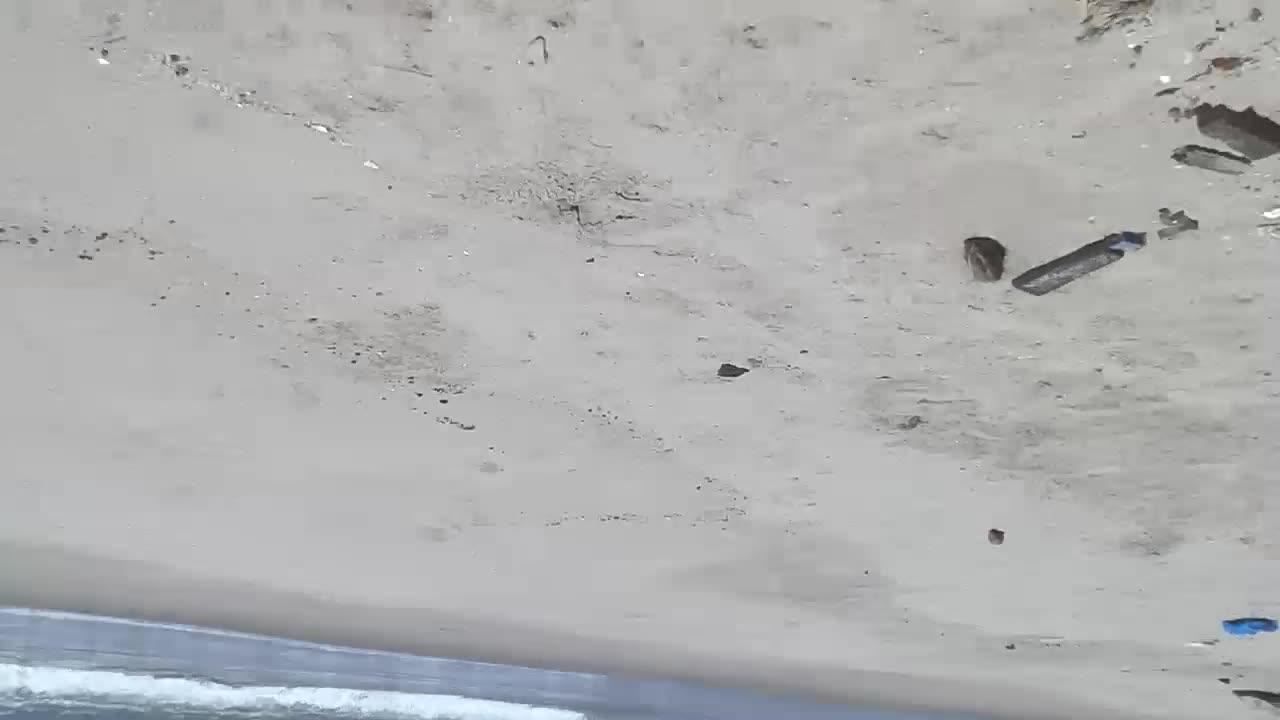obj: (1010, 240, 1122, 302), (1180, 98, 1279, 160), (960, 236, 1009, 282), (1157, 202, 1203, 242), (1230, 688, 1279, 715), (1221, 619, 1278, 638), (1108, 229, 1150, 252), (714, 361, 752, 380), (989, 526, 1006, 547)
sand/background: (1, 603, 1189, 719)
